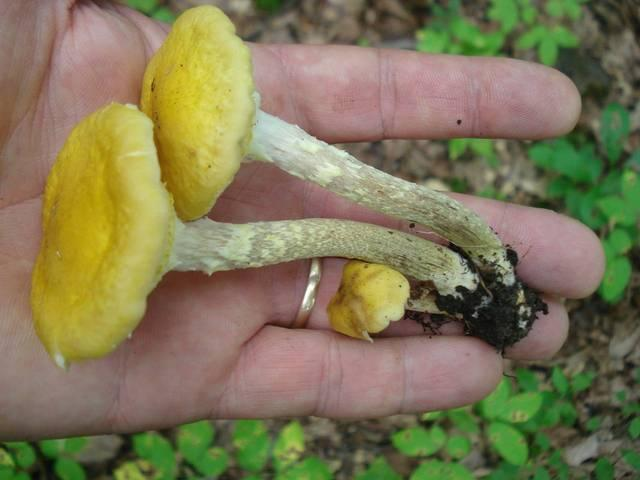Edible Mushroom: (29, 4, 548, 369)
